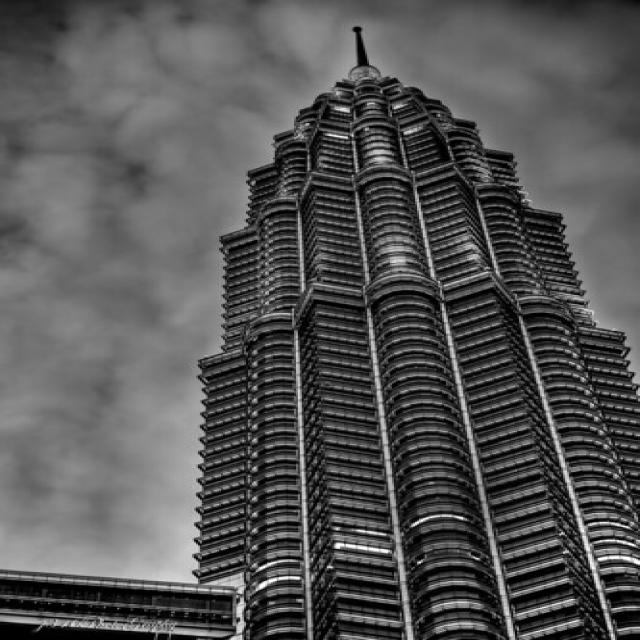building: (177, 21, 638, 636)
